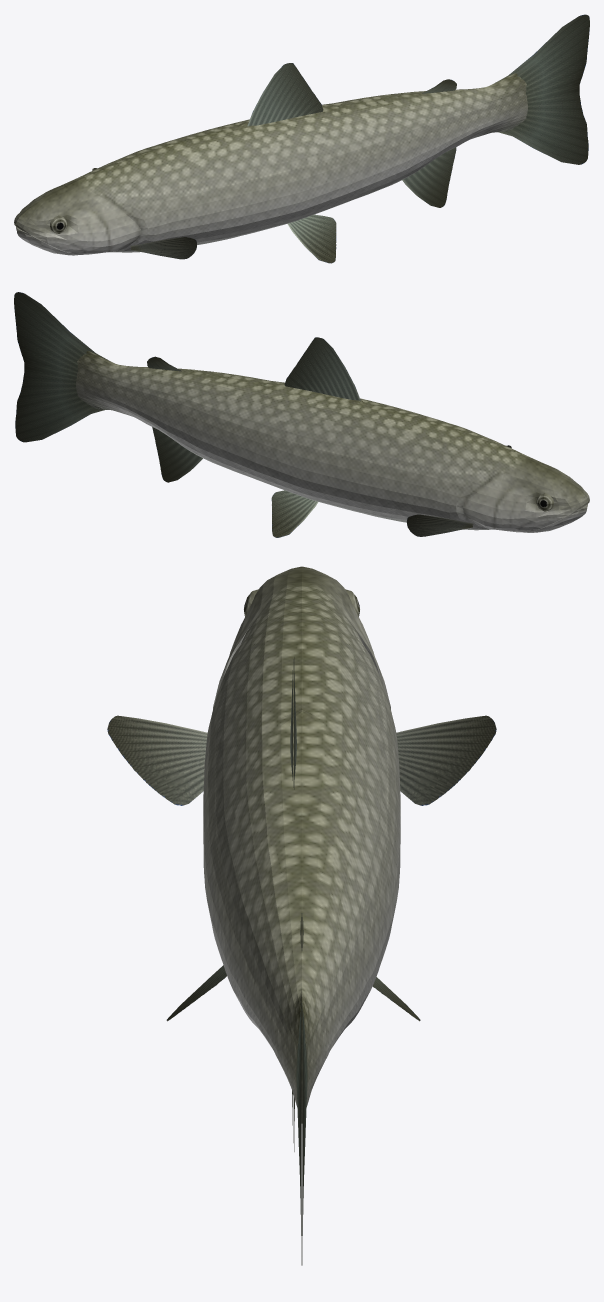
File: amemasu.obj
3 views of the same model, one above another, from view 1: azimuth 30°, elevation 25°; view 2: azimuth 150°, elevation 25°; view 3: azimuth 270°, elevation 25° (orthographic). The views are drawn at different scales.
Parts seen in each view (by area): view 1: amemasu2:object, amemasu2:object9, amemasu2:object2, amemasu2:object8, amemasu2:object6, amemasu2:object4; view 2: amemasu2:object, amemasu2:object9, amemasu2:object2, amemasu2:object7, amemasu2:object8, amemasu2:object5; view 3: amemasu2:object, amemasu2:object4, amemasu2:object5, amemasu2:object9.
Part boxes in pixels (box(x1,y1,x2,y2)): amemasu2:object: box(14, 73, 528, 255); amemasu2:object9: box(495, 14, 589, 164); amemasu2:object2: box(247, 63, 323, 126); amemasu2:object8: box(402, 147, 456, 207); amemasu2:object6: box(287, 214, 336, 263); amemasu2:object4: box(130, 237, 196, 259); amemasu2:object: box(75, 351, 589, 532); amemasu2:object9: box(14, 292, 107, 442); amemasu2:object2: box(284, 337, 360, 400); amemasu2:object7: box(271, 490, 318, 537); amemasu2:object8: box(152, 427, 202, 482); amemasu2:object5: box(407, 514, 473, 536); amemasu2:object: box(203, 566, 400, 1123); amemasu2:object4: box(107, 715, 207, 805); amemasu2:object5: box(396, 715, 496, 805); amemasu2:object9: box(296, 1003, 307, 1265).
Size of the model in its own units: 0.4032 by 0.122 by 0.1184.
1 material, 1 textured.
